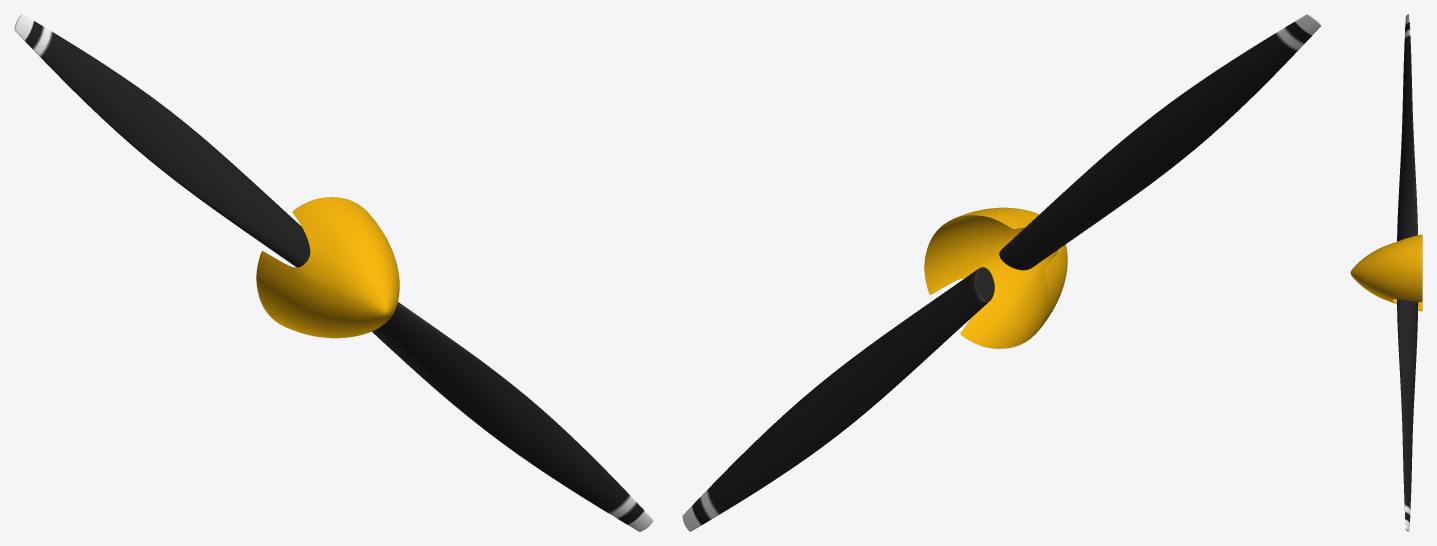
Rendered from propeller.obj.
3 renders of one model, left to right at view 1: azimuth 30°, elevation 25°; view 2: azimuth 150°, elevation 25°; view 3: azimuth 270°, elevation 25°, orthographic. The views are drawn at different scales.
Visible parts, largest first — view 1: prop01_Cube, prop02_Cube, prop_tip01_Cylinder.001; view 2: prop01_Cube, prop02_Cube, prop_tip01_Cylinder.001; view 3: prop_tip01_Cylinder.001, prop02_Cube, prop01_Cube.
Part boxes in pixels (<box>): prop01_Cube: <box>14,14,310,267</box>; prop02_Cube: <box>372,302,653,531</box>; prop_tip01_Cylinder.001: <box>256,197,399,338</box>; prop01_Cube: <box>999,14,1321,270</box>; prop02_Cube: <box>682,267,994,531</box>; prop_tip01_Cylinder.001: <box>924,207,1067,348</box>; prop_tip01_Cylinder.001: <box>1350,234,1422,311</box>; prop02_Cube: <box>1397,299,1418,531</box>; prop01_Cube: <box>1397,14,1417,241</box>.
Size of the model in its own units: 1.36 by 1.36 by 0.2479.
